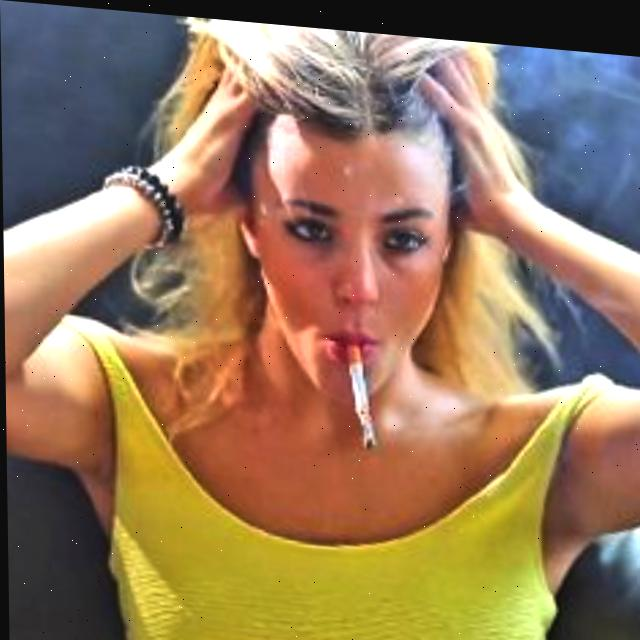cigarette: (343, 333, 376, 444)
